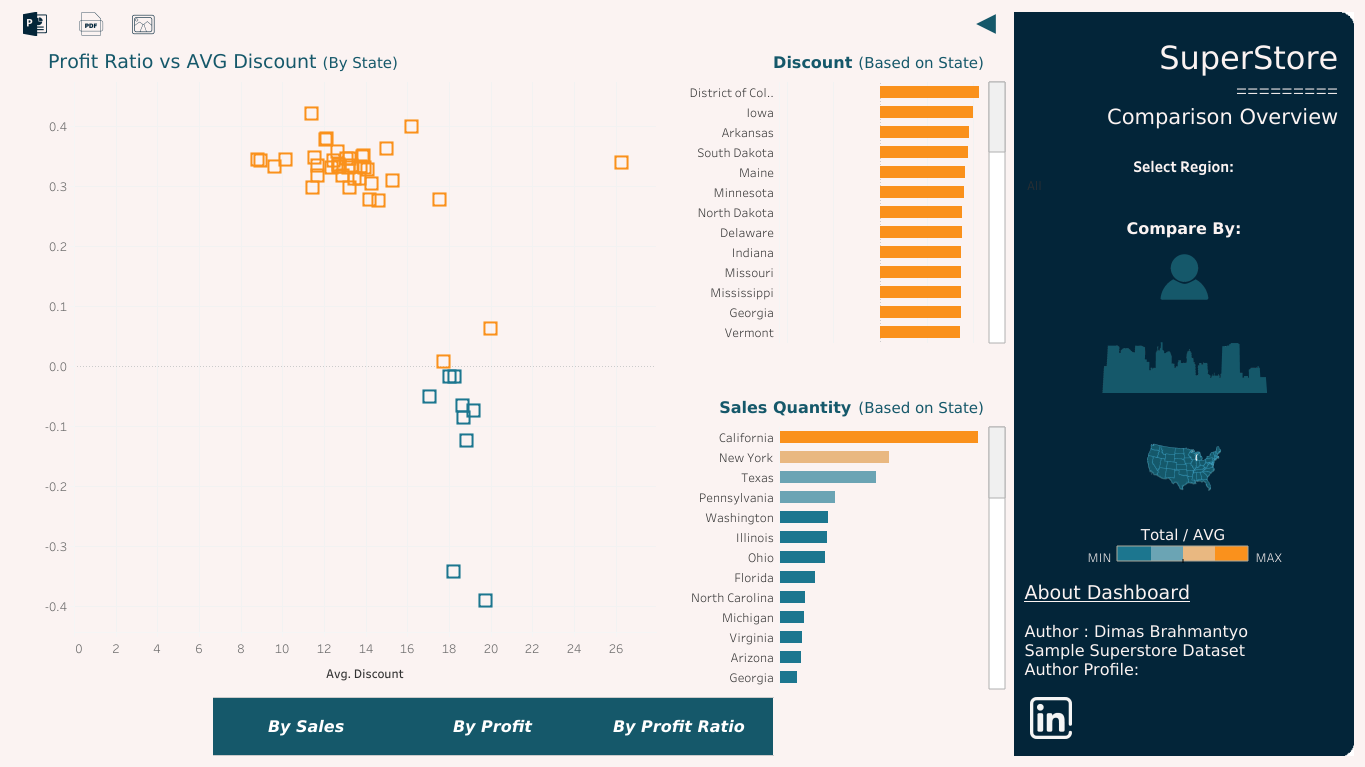

What the dashboard file says about the page in this screenshot:
{"tool":"tableau","page":{"name":"Dashboard 2 - Comparison Overview (By State)","canvas":[1366,768],"ordinal":3},"visuals":[{"type":"dashboard-object","box":[8,8,54,32]},{"type":"dashboard-object","box":[62,8,60,32]},{"type":"dashboard-object","box":[122,8,44,32]},{"type":"worksheet","title":"Go Back","mark":"Shape","rows":["Calculation_132293265483010062"],"box":[962,8,48,32]},{"type":"image","param":"Image/2.png","box":[1010,8,348,752]},{"type":"text","box":[1025,21,316,125]},{"type":"worksheet","title":"Sheet 8 (3)","mark":"Shape","rows":["Calculation_132293265338007554"],"cols":["Calculation_1180506078092304394"],"box":[40,40,620,653]},{"type":"worksheet","title":"Based on State","mark":"Automatic","rows":["State"],"box":[683,40,327,307]},{"type":"blank","box":[1025,154,317,44]},{"type":"setMembership","title":"Sheet 8 (3)","param":"[federated.1u37z9d020ffhv1e04nla11qurtp].[a1. Select Region Set]","box":[1025,154,317,44]},{"type":"text","box":[1027,213,314,30]},{"type":"dashboard-object","box":[1028,251,313,52]},{"type":"dashboard-object","box":[1029,341,311,52]},{"type":"worksheet","title":"Quantity Based on State","mark":"Automatic","rows":["State"],"cols":["Quantity"],"box":[683,385,327,308]},{"type":"dashboard-object","box":[1027,440,314,52]},{"type":"legend","title":"Based on State","param":"[federated.1u37z9d020ffhv1e04nla11qurtp].[usr:Calculation_132293265338007554:qk]","box":[1113,522,140,43]},{"type":"text","box":[1085,546,29,21]},{"type":"text","box":[1253,546,37,22]},{"type":"text","box":[1022,577,272,106]},{"type":"worksheet","title":"LinkedIn","mark":"Shape","rows":["Calculation_1125055507973922816"],"box":[1022,691,57,53]},{"type":"worksheet","title":"Field Button (Dashboard 2)","mark":"Shape","box":[209,693,569,67]}]}

Visuals, with their boxes on the page's 1366x768 design canvas (x1, y1, x2, y2). These are canvas units, not pixel positions in the 1365x767 screenshot, which may show the page scaled, cropped or inside an application window:
dashboard-object: l=8, t=8, r=62, b=40
dashboard-object: l=62, t=8, r=122, b=40
dashboard-object: l=122, t=8, r=166, b=40
"Go Back" worksheet (Shape marks): l=962, t=8, r=1010, b=40
image: l=1010, t=8, r=1358, b=760
text: l=1025, t=21, r=1341, b=146
"Sheet 8 (3)" worksheet (Shape marks): l=40, t=40, r=660, b=693
"Based on State" worksheet: l=683, t=40, r=1010, b=347
blank: l=1025, t=154, r=1342, b=198
"Sheet 8 (3)" setMembership: l=1025, t=154, r=1342, b=198
text: l=1027, t=213, r=1341, b=243
dashboard-object: l=1028, t=251, r=1341, b=303
dashboard-object: l=1029, t=341, r=1340, b=393
"Quantity Based on State" worksheet: l=683, t=385, r=1010, b=693
dashboard-object: l=1027, t=440, r=1341, b=492
"Based on State" legend: l=1113, t=522, r=1253, b=565
text: l=1085, t=546, r=1114, b=567
text: l=1253, t=546, r=1290, b=568
text: l=1022, t=577, r=1294, b=683
"LinkedIn" worksheet (Shape marks): l=1022, t=691, r=1079, b=744
"Field Button (Dashboard 2)" worksheet (Shape marks): l=209, t=693, r=778, b=760
